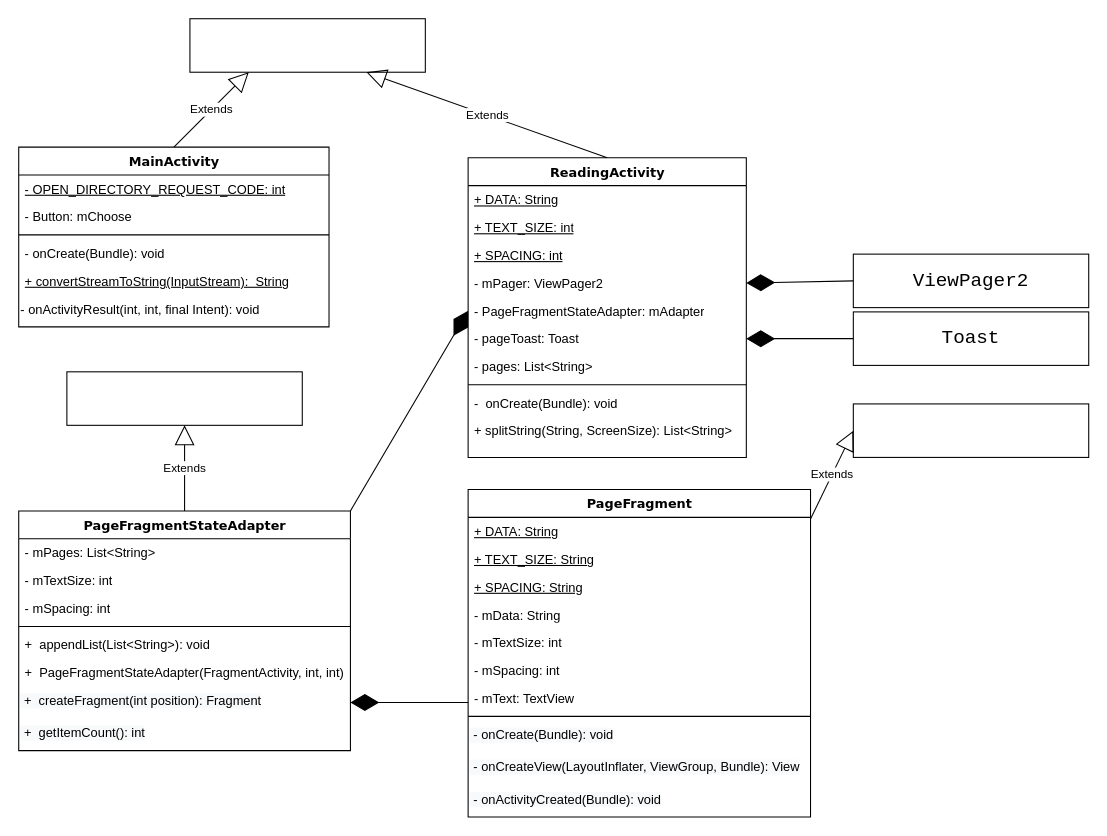
This 1107x836 diagram has some shape labels left out. Each missing label, with the centre of its shape:
"AppCompatActivity" belongs at [307,45].
"Fragment" belongs at [970,430].
"FragmentStateAdapter" belongs at [184,398].
